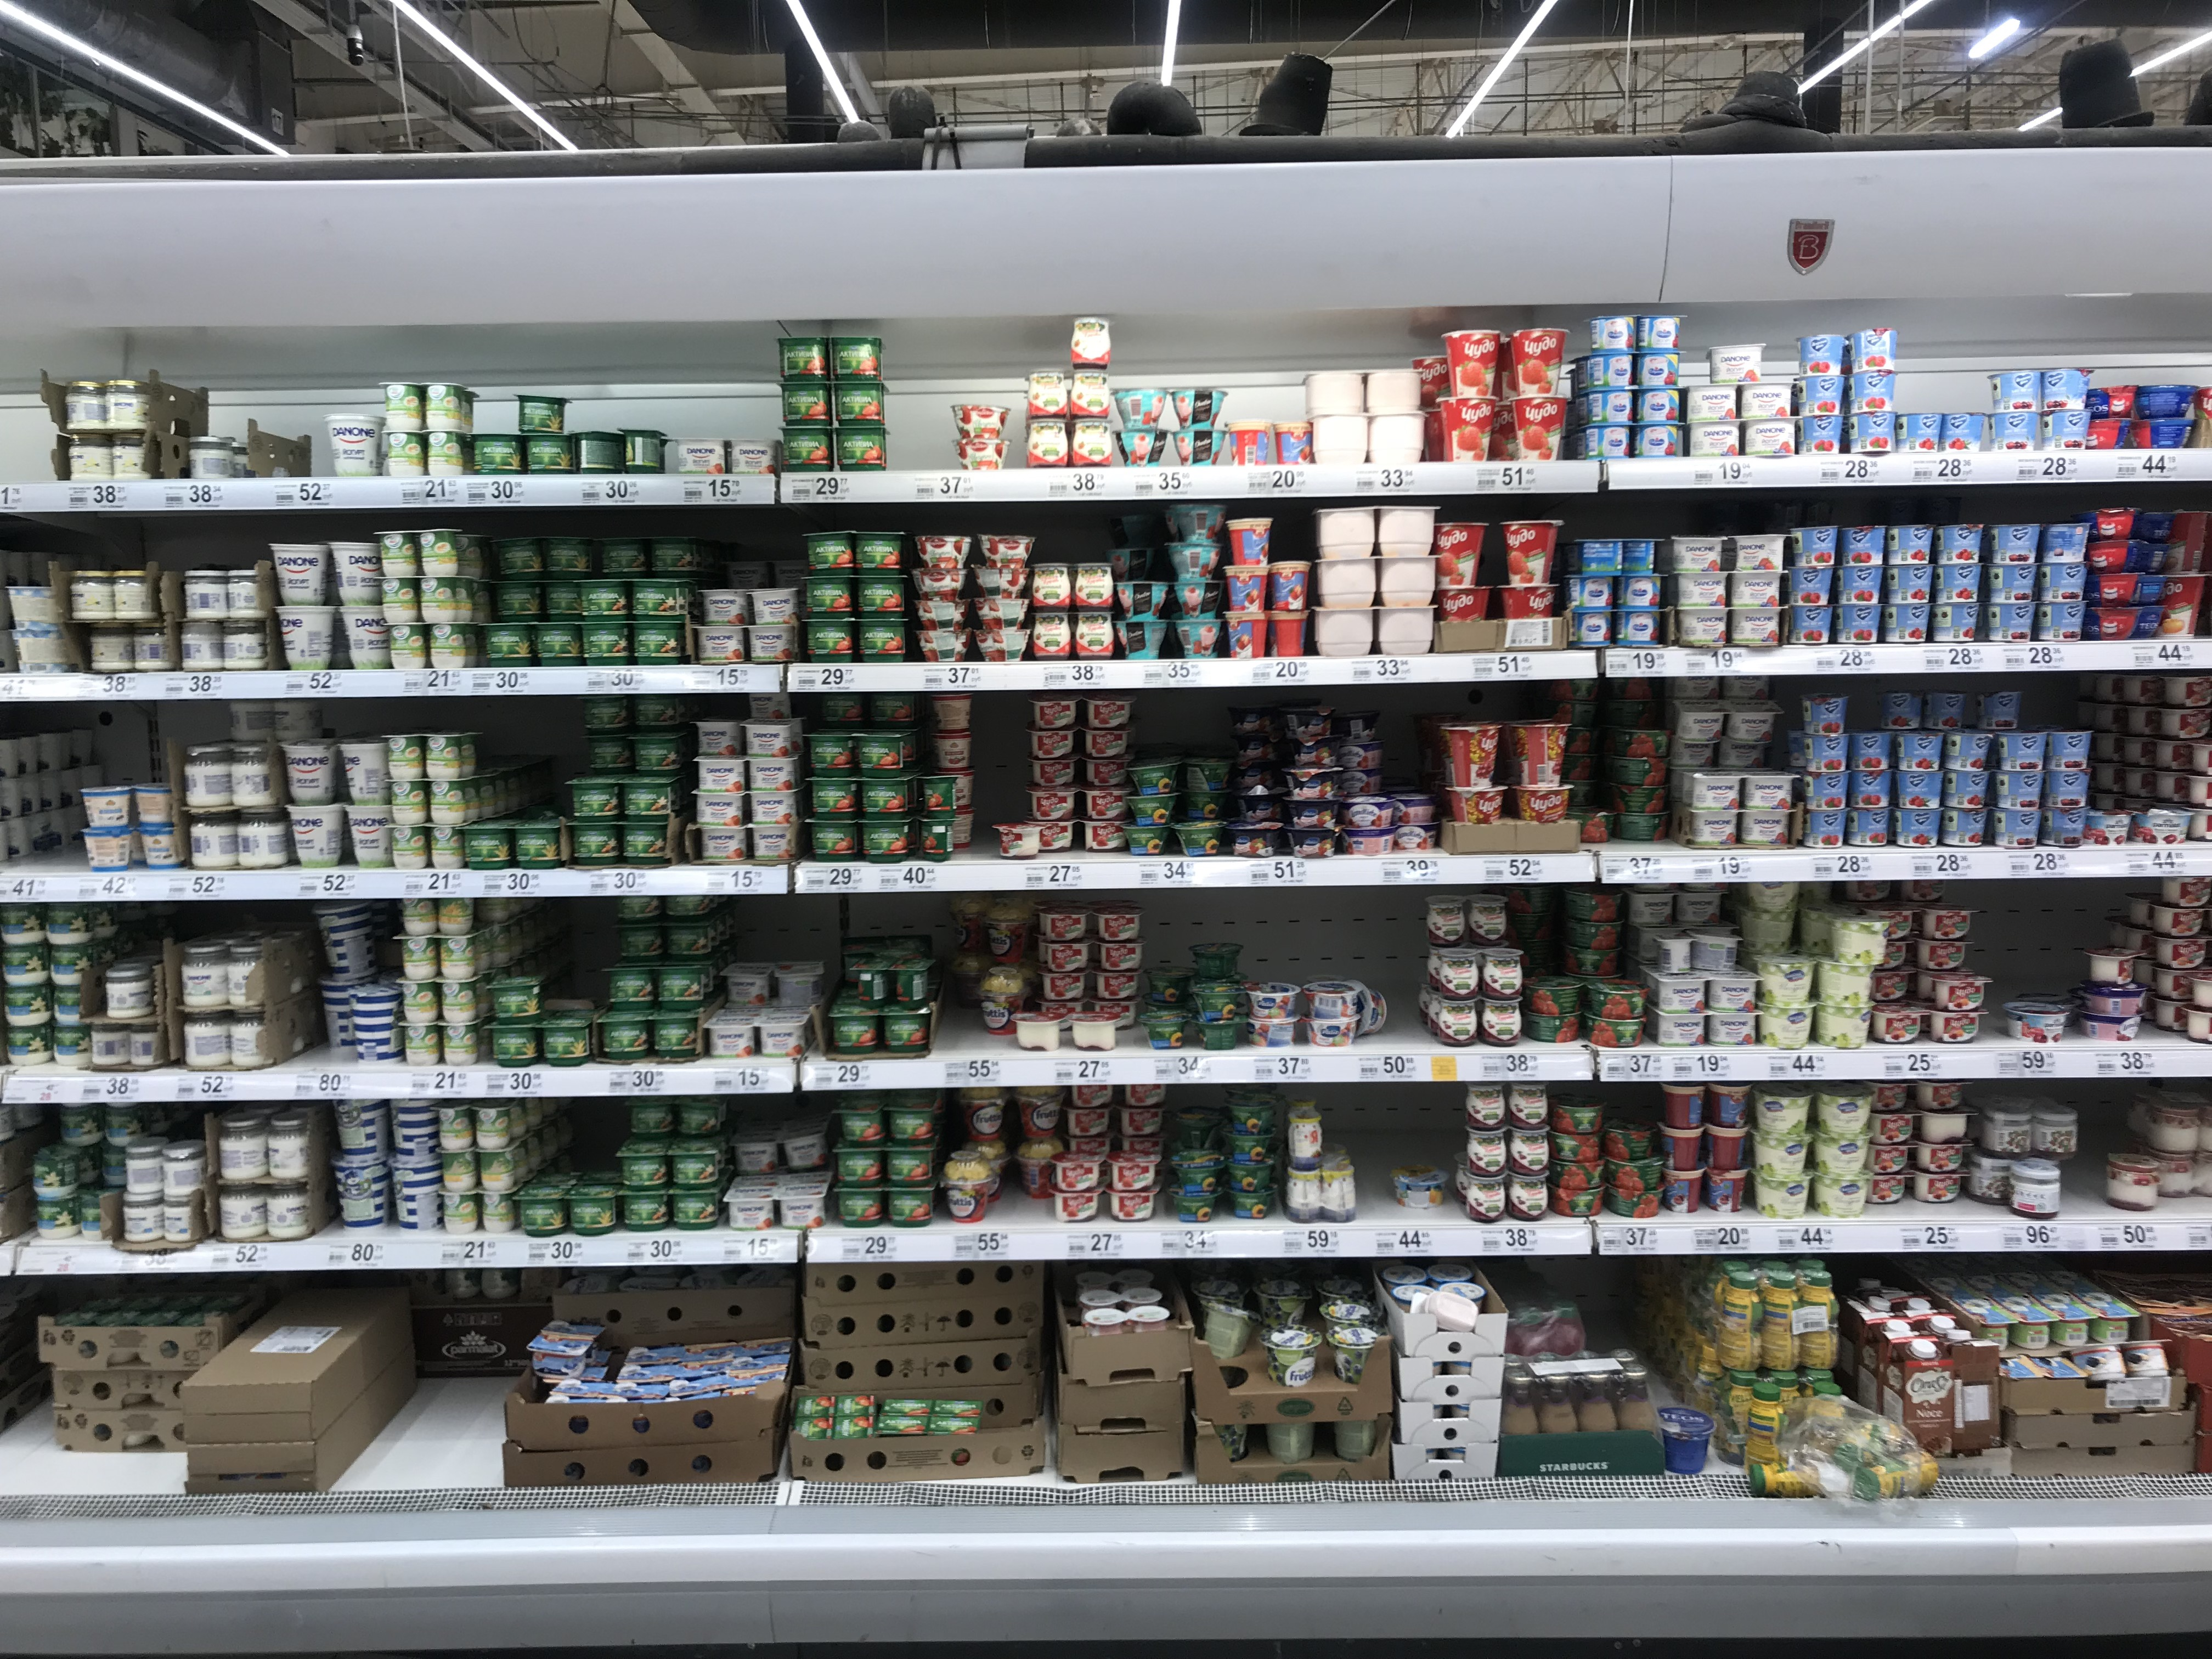yogbox: (1446, 725, 1501, 789), (1430, 519, 1482, 587), (1660, 1406, 1712, 1473), (1501, 519, 1554, 582), (1266, 1328, 1320, 1387), (1510, 331, 1561, 394), (1449, 329, 1498, 394), (1512, 401, 1564, 460), (1817, 955, 1876, 1006), (1315, 507, 1378, 554), (1329, 1328, 1381, 1384), (1442, 403, 1493, 460), (946, 1154, 988, 1222), (1378, 608, 1435, 657), (9, 629, 75, 671), (2167, 573, 2207, 641), (1817, 1002, 1874, 1049), (1831, 918, 1890, 964), (2170, 509, 2210, 575), (2010, 1166, 2060, 1218), (2111, 1155, 2160, 1209), (1754, 957, 1810, 1004), (2003, 1000, 2066, 1042), (979, 971, 1019, 1035), (1318, 559, 1372, 606), (2151, 1096, 2198, 1150), (1313, 416, 1369, 462), (1318, 608, 1374, 653), (1752, 1175, 1808, 1220), (1381, 556, 1432, 605), (1982, 1105, 2031, 1155), (1381, 507, 1433, 554), (1759, 1002, 1811, 1047), (5, 584, 59, 627), (1207, 1302, 1245, 1363), (2085, 1291, 2132, 1340), (1071, 317, 1118, 366), (1369, 418, 1421, 462), (1756, 1089, 1808, 1133), (1817, 1091, 1869, 1134), (531, 1331, 585, 1373), (1752, 1134, 1808, 1175), (380, 382, 425, 430), (416, 528, 460, 579), (82, 828, 132, 871), (1425, 892, 1468, 943), (1395, 1164, 1446, 1208), (2010, 1297, 2054, 1347), (2048, 1293, 2092, 1344), (975, 535, 1038, 570), (1303, 373, 1362, 410), (1021, 1140, 1059, 1195), (2134, 805, 2189, 843), (963, 1091, 1007, 1140), (1258, 1281, 1306, 1324), (1745, 910, 1796, 951), (1832, 565, 1885, 605), (1468, 892, 1507, 946), (988, 904, 1026, 958), (1500, 586, 1559, 620), (2034, 1108, 2080, 1154), (425, 622, 469, 669), (1226, 420, 1270, 467), (378, 530, 420, 579), (1449, 788, 1505, 824), (1484, 950, 1526, 999), (2087, 948, 2142, 985), (1578, 538, 1630, 577), (1366, 373, 1420, 410), (1226, 566, 1270, 612), (1662, 1084, 1705, 1129), (1507, 1082, 1548, 1129), (1705, 1168, 1747, 1215), (913, 627, 972, 660), (423, 382, 463, 430), (1895, 732, 1944, 772), (1998, 732, 2047, 772), (1005, 1011, 1061, 1046), (1322, 1164, 1357, 1220), (82, 788, 132, 826), (1815, 1176, 1865, 1215), (1932, 563, 1982, 601), (1437, 586, 1489, 622), (1815, 1138, 1867, 1175), (1228, 521, 1271, 565), (1705, 1124, 1747, 1169), (1026, 369, 1068, 415), (1439, 951, 1479, 999), (1801, 734, 1848, 774), (1029, 422, 1069, 469), (1071, 422, 1111, 469), (1791, 528, 1839, 566), (1414, 1297, 1474, 1328), (2137, 385, 2196, 416), (1271, 563, 1308, 613), (1052, 1152, 1103, 1188), (1874, 1006, 1925, 1042), (2073, 1344, 2123, 1380), (2083, 985, 2149, 1012), (383, 434, 427, 476), (1019, 1089, 1061, 1133), (1914, 1169, 1966, 1204), (1801, 692, 1846, 732), (1885, 605, 1930, 645), (1268, 1422, 1315, 1460), (1937, 523, 1984, 561), (1796, 335, 1843, 373), (1482, 999, 1519, 1047), (1287, 1169, 1324, 1218), (1033, 615, 1075, 657), (974, 599, 1029, 631), (951, 437, 1007, 469), (1268, 613, 1308, 657), (1879, 687, 1919, 730), (1214, 1419, 1252, 1464), (2048, 730, 2094, 769), (1886, 525, 1932, 563), (1073, 563, 1111, 608), (1851, 333, 1897, 371), (1895, 415, 1940, 453), (1291, 1115, 1324, 1168), (1834, 606, 1881, 643), (1932, 606, 1979, 643), (1076, 613, 1113, 660), (1794, 376, 1841, 413), (1844, 415, 1892, 451), (2081, 1011, 2139, 1040), (1031, 694, 1080, 728), (1109, 1154, 1158, 1188), (1994, 774, 2043, 809), (2040, 566, 2088, 601), (916, 535, 970, 566), (974, 633, 1028, 664), (378, 579, 418, 620), (1226, 615, 1266, 657), (1947, 732, 1989, 772), (1850, 770, 1892, 810), (1357, 983, 1390, 1033), (2083, 606, 2134, 640), (138, 826, 181, 864), (1569, 608, 1613, 647), (1334, 1419, 1378, 1457), (1507, 1131, 1550, 1169), (1977, 690, 2020, 728), (1897, 772, 1940, 810), (1965, 1300, 2008, 1338), (1069, 371, 1108, 415), (1663, 1169, 1700, 1215), (1973, 1157, 2010, 1202), (1303, 1014, 1359, 1044), (1916, 1140, 1968, 1171), (1987, 566, 2034, 601), (1848, 375, 1895, 410), (2158, 1150, 2193, 1197), (1042, 906, 1090, 939), (1892, 812, 1940, 845), (1285, 767, 1343, 795), (2087, 544, 2141, 573), (1850, 734, 1893, 770), (1791, 608, 1834, 645), (2087, 573, 2137, 605), (420, 577, 455, 622), (1252, 981, 1298, 1016), (1789, 572, 1834, 606), (1841, 526, 1886, 561), (1989, 605, 2034, 640), (2040, 606, 2085, 641), (1991, 375, 2036, 410), (2041, 369, 2087, 404), (1989, 415, 2034, 450), (2041, 415, 2087, 450), (1886, 568, 1933, 601), (914, 601, 970, 629), (1287, 798, 1339, 828), (427, 434, 465, 474), (1925, 688, 1965, 727), (390, 781, 427, 823), (1467, 1084, 1503, 1126), (1468, 1131, 1505, 1173), (1470, 1182, 1512, 1218), (1512, 1178, 1548, 1220), (1712, 1084, 1749, 1126), (1944, 772, 1986, 809), (2043, 812, 2085, 849), (1033, 563, 1069, 605), (1797, 418, 1841, 453), (913, 572, 967, 599), (2047, 774, 2092, 807), (1942, 810, 1987, 843), (1231, 824, 1282, 854), (1308, 985, 1359, 1014), (953, 901, 982, 951), (1345, 795, 1392, 826), (1284, 704, 1331, 735), (1801, 775, 1848, 807), (132, 786, 171, 824), (1440, 1002, 1477, 1042), (2045, 526, 2085, 563), (390, 624, 425, 666), (388, 734, 423, 775), (402, 936, 437, 978), (1073, 1012, 1115, 1047), (1275, 422, 1310, 464), (2134, 420, 2189, 446), (1568, 577, 1616, 606), (1615, 577, 1663, 606), (2160, 708, 2209, 737), (996, 824, 1040, 857), (1090, 697, 1134, 730), (1588, 319, 1634, 350), (1588, 359, 1634, 390), (1993, 528, 2038, 559), (1341, 828, 1395, 854), (2081, 511, 2135, 537), (977, 570, 1028, 598), (1665, 1129, 1700, 1169), (1803, 810, 1843, 845), (1940, 415, 1980, 450), (1291, 828, 1338, 857), (1932, 1012, 1979, 1042), (432, 781, 463, 824), (1994, 812, 2038, 843), (1869, 1112, 1918, 1140), (1231, 706, 1277, 735), (1054, 1190, 1099, 1220), (1623, 537, 1658, 575), (404, 985, 437, 1025), (442, 981, 475, 1021), (439, 1108, 472, 1148), (932, 695, 972, 728), (1848, 812, 1888, 845), (479, 1107, 510, 1148), (1923, 1112, 1970, 1140), (2088, 389, 2135, 416), (2088, 812, 2130, 843), (2156, 904, 2203, 932), (441, 938, 474, 976), (444, 1025, 477, 1063), (1395, 791, 1433, 824), (951, 406, 1007, 429), (1343, 767, 1385, 796), (1291, 739, 1338, 765), (441, 1154, 475, 1188), (1338, 713, 1381, 741), (1939, 979, 1982, 1007), (2167, 676, 2210, 704), (482, 1150, 514, 1188), (482, 1194, 514, 1232), (1590, 427, 1629, 458), (1620, 612, 1658, 643), (2163, 971, 2202, 1002), (2128, 1344, 2167, 1375), (1639, 321, 1679, 350), (1639, 425, 1679, 455), (1867, 1143, 1909, 1171), (406, 1028, 439, 1063), (444, 1195, 477, 1230), (1251, 1019, 1298, 1044), (1865, 1173, 1902, 1204), (428, 735, 455, 779), (1033, 732, 1076, 758), (1919, 1079, 1963, 1105), (1089, 789, 1127, 819), (934, 735, 972, 765), (1637, 392, 1676, 422), (1341, 742, 1379, 772), (1085, 1310, 1123, 1340), (556, 1377, 610, 1398), (1045, 945, 1090, 969), (1749, 882, 1797, 904), (1588, 396, 1630, 422), (1395, 824, 1437, 850), (1926, 910, 1968, 936), (2134, 605, 2168, 636), (404, 897, 434, 934), (1101, 911, 1139, 939), (1869, 1080, 1907, 1108), (1109, 1194, 1157, 1216), (1089, 760, 1129, 786), (1101, 945, 1141, 971), (1923, 939, 1963, 965), (2087, 422, 2127, 448), (1324, 1298, 1369, 1321), (2160, 939, 2205, 962), (1089, 734, 1130, 758), (1033, 762, 1075, 786), (1087, 823, 1123, 850), (1639, 357, 1676, 385), (1033, 791, 1071, 817), (1237, 796, 1280, 819), (2135, 573, 2167, 605), (631, 1345, 678, 1366), (1049, 976, 1089, 1000), (1129, 1305, 1169, 1330), (2168, 878, 2209, 903), (441, 899, 469, 934), (2139, 511, 2174, 538), (1123, 1112, 1160, 1138), (1096, 972, 1137, 995), (1069, 1110, 1108, 1134), (956, 772, 979, 810), (1073, 1084, 1111, 1107), (1040, 824, 1073, 850), (1240, 765, 1275, 789), (2158, 741, 2189, 767), (617, 1382, 669, 1398), (1320, 1276, 1359, 1297), (956, 814, 979, 849), (1240, 741, 1277, 762), (1123, 1288, 1160, 1309), (674, 1375, 723, 1391), (728, 1371, 782, 1385), (1878, 974, 1909, 997), (1444, 1283, 1487, 1298), (1393, 1288, 1437, 1304), (1125, 1086, 1163, 1103), (1198, 1279, 1233, 1298), (1080, 1290, 1118, 1307), (740, 1344, 786, 1358), (1432, 1265, 1475, 1279), (1383, 1267, 1425, 1281), (685, 1344, 726, 1358), (1120, 1269, 1151, 1286), (1076, 1270, 1109, 1286)
yogbox.activ.ky.kivi: (653, 964, 705, 1012), (570, 779, 624, 826), (622, 779, 676, 826), (618, 817, 672, 864), (585, 619, 639, 666), (631, 688, 685, 735), (646, 528, 700, 575), (594, 526, 648, 573), (651, 1014, 705, 1061), (671, 1094, 725, 1141), (669, 1143, 723, 1190), (566, 823, 618, 870), (631, 735, 683, 782), (632, 615, 685, 662), (580, 735, 632, 782), (578, 690, 631, 737), (631, 572, 683, 619), (580, 575, 632, 622), (611, 918, 664, 965), (662, 915, 714, 962), (604, 964, 657, 1011), (597, 1016, 650, 1063), (625, 1096, 678, 1143), (624, 1147, 676, 1194), (624, 1188, 676, 1236), (671, 1188, 723, 1236)
yogbox.activ.ky.klubnik: (780, 425, 838, 472), (780, 383, 836, 429), (855, 619, 907, 662), (831, 1011, 883, 1054), (855, 732, 906, 775), (831, 336, 883, 378), (838, 427, 887, 471), (862, 821, 913, 863), (883, 1009, 928, 1054), (808, 819, 857, 861), (808, 777, 859, 817), (890, 1103, 937, 1145), (836, 1187, 883, 1229), (805, 533, 855, 572), (860, 777, 911, 816), (808, 732, 852, 775), (838, 1103, 883, 1145), (805, 579, 853, 617), (855, 579, 906, 615), (780, 338, 826, 378), (836, 383, 883, 422), (890, 1185, 932, 1227), (805, 622, 852, 659), (834, 1148, 881, 1185), (855, 533, 904, 568), (890, 1147, 932, 1187), (918, 819, 956, 861), (853, 962, 888, 1007), (895, 964, 928, 1007), (871, 695, 918, 725), (920, 777, 954, 816), (822, 694, 864, 725), (878, 1417, 928, 1439), (930, 1417, 982, 1438), (796, 1419, 836, 1445), (887, 1398, 932, 1417), (836, 1417, 873, 1439), (935, 1399, 982, 1417), (799, 1396, 833, 1419), (841, 1396, 873, 1415)
yogbox.activ.ky.otrub: (516, 390, 568, 434), (474, 434, 524, 471), (526, 436, 571, 472), (571, 1197, 617, 1234), (465, 831, 510, 864), (493, 1030, 538, 1061), (486, 633, 533, 662), (517, 831, 559, 864), (538, 629, 583, 659), (496, 589, 543, 617), (545, 1032, 589, 1060), (495, 992, 540, 1018), (549, 547, 592, 573), (502, 545, 542, 573), (523, 1202, 563, 1230), (547, 589, 583, 617)
yogbox.danone.by.natur: (324, 413, 378, 476), (282, 739, 334, 798), (280, 610, 333, 666), (272, 544, 322, 601), (291, 807, 341, 864), (333, 542, 380, 603), (347, 805, 392, 868), (345, 608, 392, 666), (343, 739, 385, 803)
